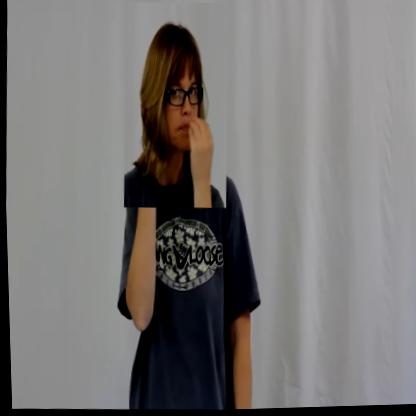Food: (118, 0, 232, 212)
